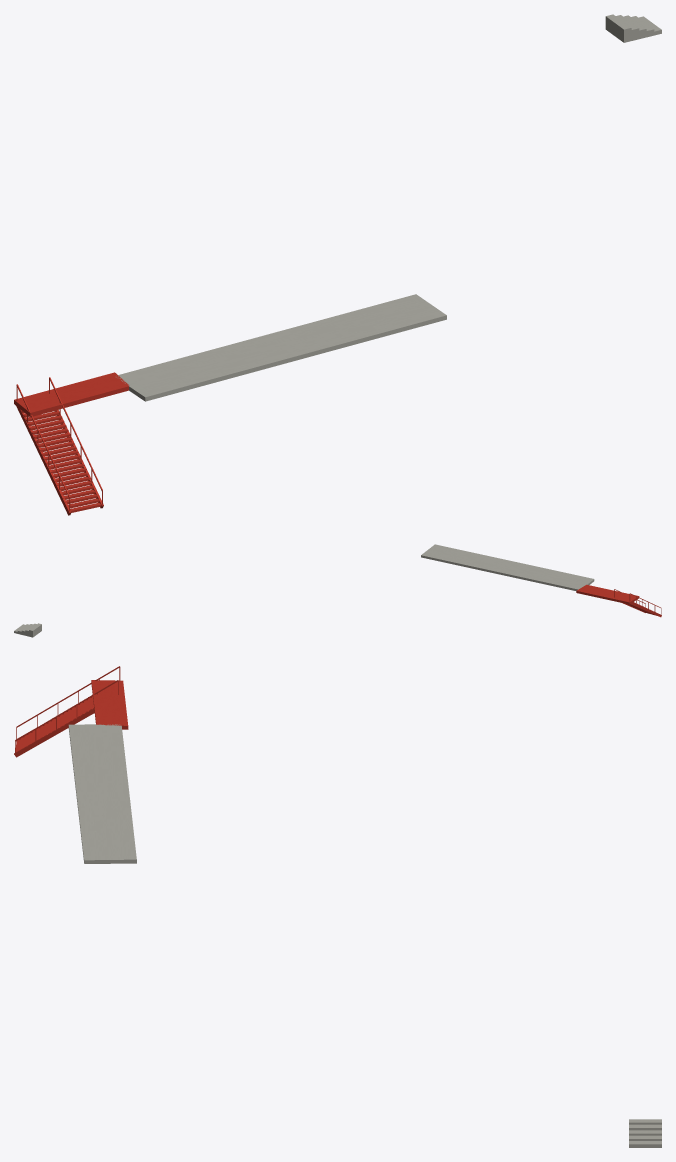
Rendered from callier_center_richardson_addition_access.glb.
3 views of the same model, one above another, from view 1: azimuth 30°, elevation 25°; view 2: azimuth 150°, elevation 25°; view 3: azimuth 270°, elevation 25° (orthographic). The views are drawn at different scales.
Visible parts, largest first — view 1: callier_center_richardson_addition_access_CampusAtlas_facade; view 2: callier_center_richardson_addition_access_CampusAtlas_facade; view 3: callier_center_richardson_addition_access_CampusAtlas_facade.
Part boxes in pixels (bbox=[...]): callier_center_richardson_addition_access_CampusAtlas_facade: bbox=[14, 14, 661, 515]; callier_center_richardson_addition_access_CampusAtlas_facade: bbox=[14, 544, 661, 637]; callier_center_richardson_addition_access_CampusAtlas_facade: bbox=[14, 666, 661, 1147].
Size of the model in its own units: 61.72 by 5.58 by 41.38.
1 material, 1 textured.
